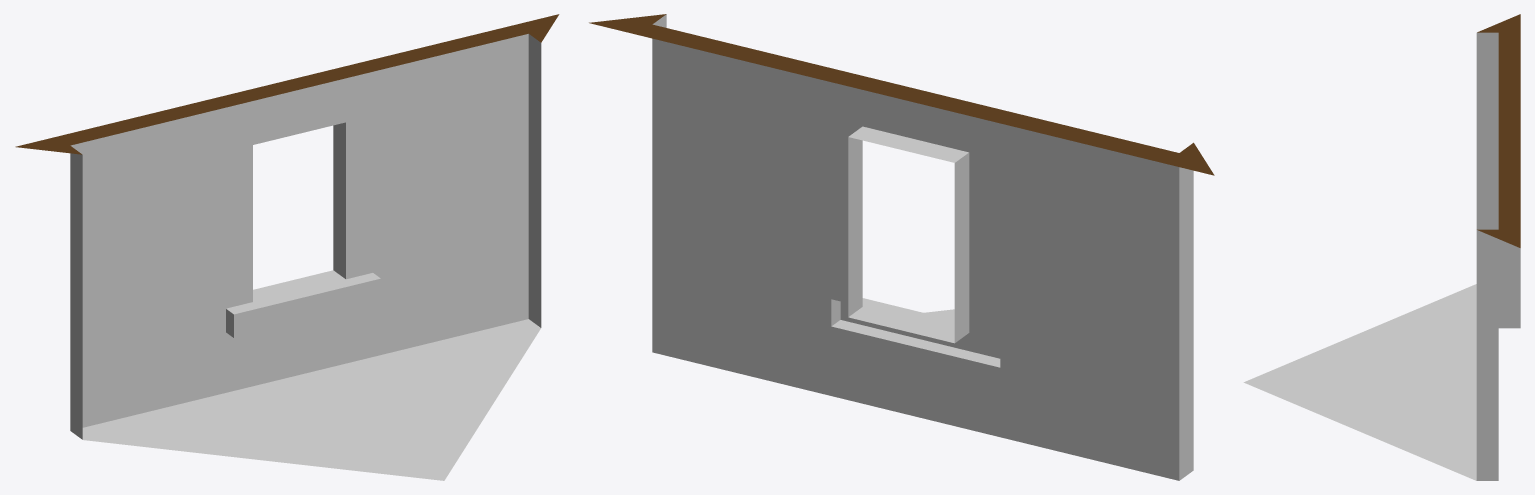
File: Window.fbx
3 views of the same model, side by side, from view 1: azimuth 30°, elevation 25°; view 2: azimuth 150°, elevation 25°; view 3: azimuth 270°, elevation 25° (orthographic). The views are drawn at different scales.
Parts seen in each view (by area): view 1: Window; view 2: Window; view 3: Window.
Part boxes in pixels (x1,y1,x2,y2): Window: (15,14,559,480); Window: (589,14,1214,480); Window: (1243,14,1520,480).
Size of the model in its own units: 400 by 200 by 200.
